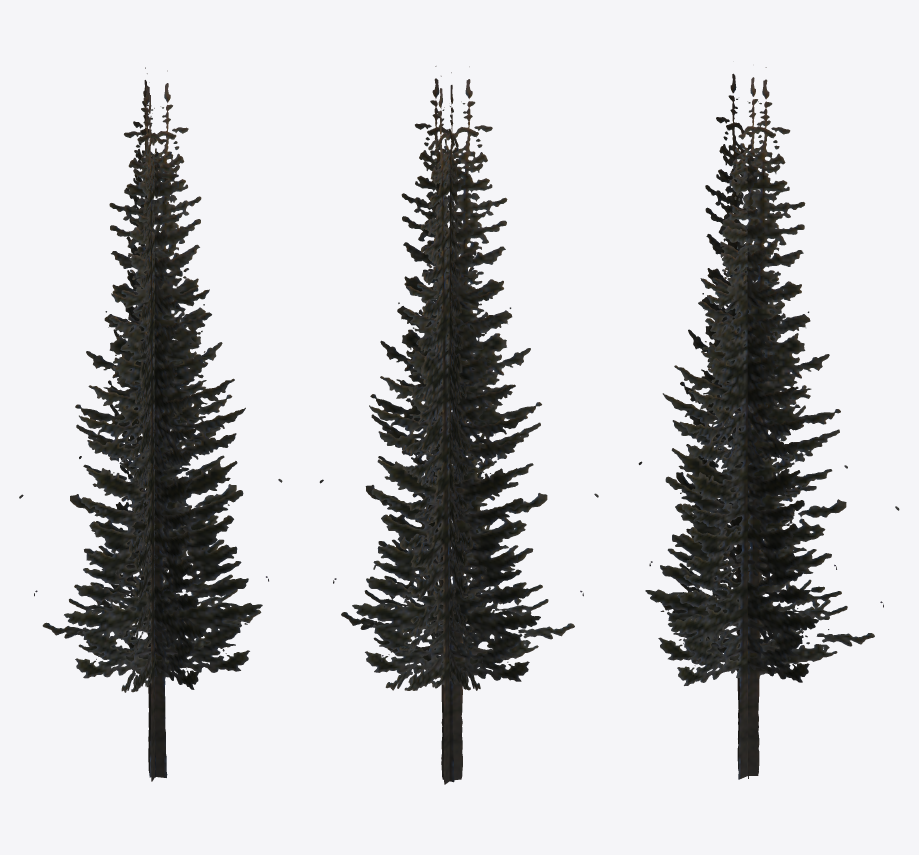
The model's file is Tree7.fbx.
The picture shows the model from 3 angles, left to right: view 1: azimuth 30°, elevation 25°; view 2: azimuth 150°, elevation 25°; view 3: azimuth 270°, elevation 25°; orthographic projection.
Visible parts, largest first — view 1: tree8; view 2: tree8; view 3: tree8.
Part boxes in pixels (x1,y1,x2,y2): tree8: (19,67,282,781); tree8: (319,66,598,784); tree8: (638,67,899,779).
Bounding box in the file's own units: 332 × 956 × 332.
